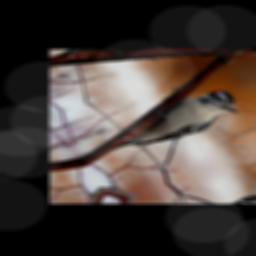Woodpecker: (96, 83, 244, 159)
